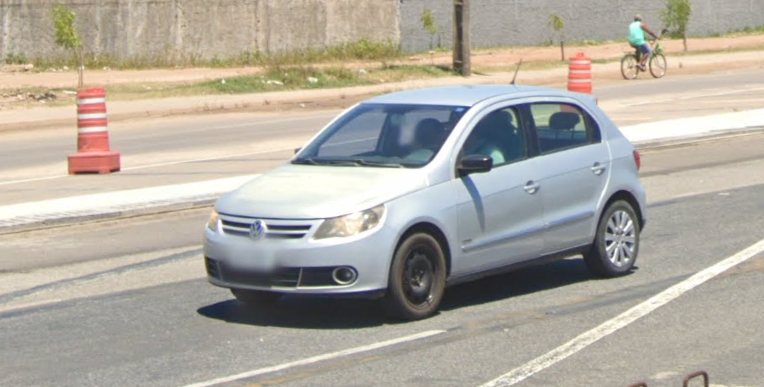car: (199, 55, 649, 324)
